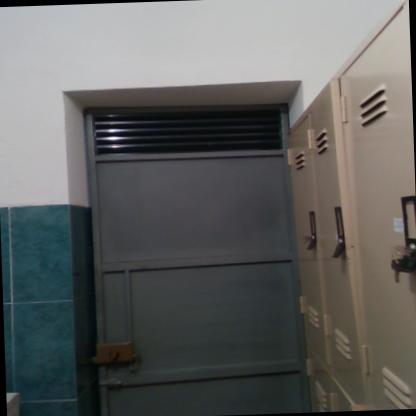closed: (47, 48, 387, 416)
